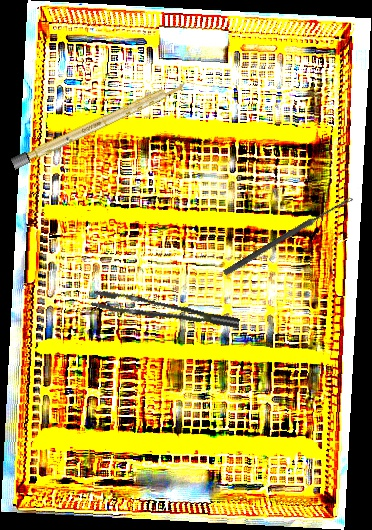Scalpel Handle: (10, 78, 188, 170)
Surgical Spoon: (222, 194, 355, 277)
Tissue Forceps: (89, 276, 241, 348)
